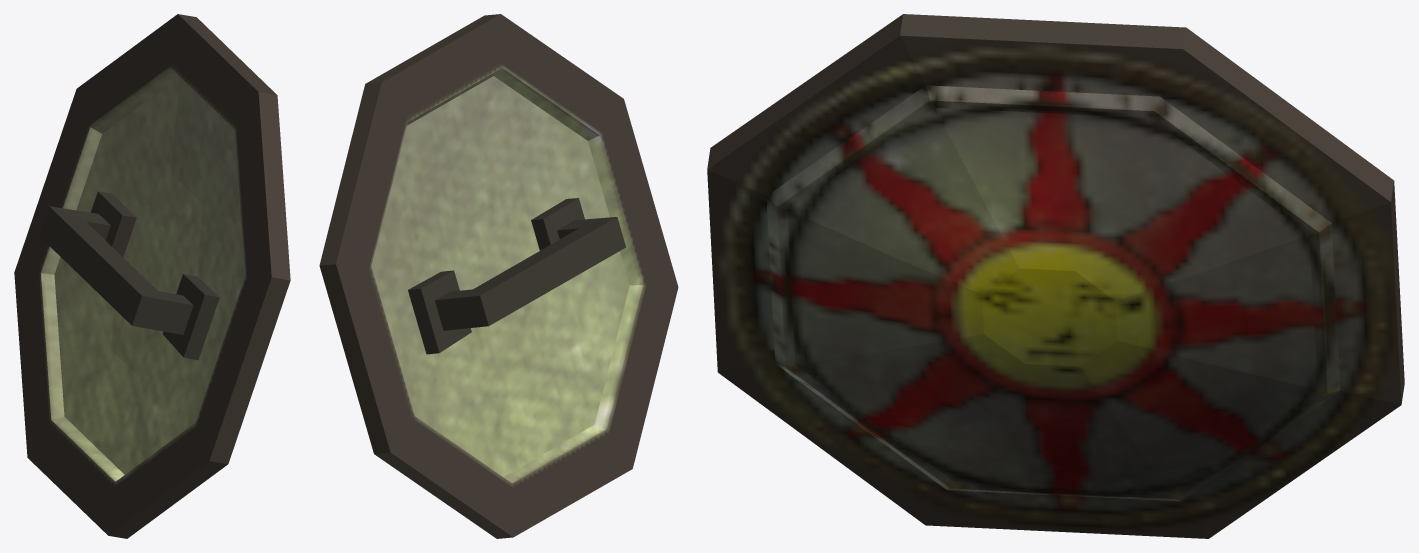
File: solaire shield.fbx
3 views of the same model, side by side, from view 1: azimuth 30°, elevation 25°; view 2: azimuth 150°, elevation 25°; view 3: azimuth 270°, elevation 25° (orthographic). The views are drawn at different scales.
Visible parts, largest first — view 1: solaire shield; view 2: solaire shield; view 3: solaire shield.
Boxes of the visible parts, x1,y1,x2,y2 form: solaire shield: (14,14,290,538); solaire shield: (319,14,678,538); solaire shield: (707,14,1404,538).
Bounding box in the file's own units: 41.46 × 93.77 × 99.36.
Materials: 1 (1 with a texture image).
